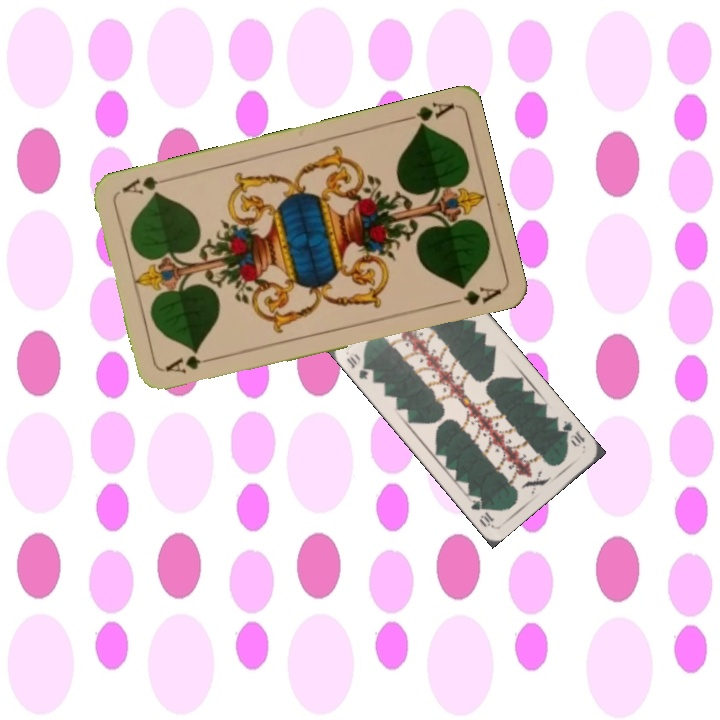G10: (553, 416, 587, 450), (342, 352, 372, 382)
GA: (398, 98, 456, 131), (161, 351, 220, 376)
